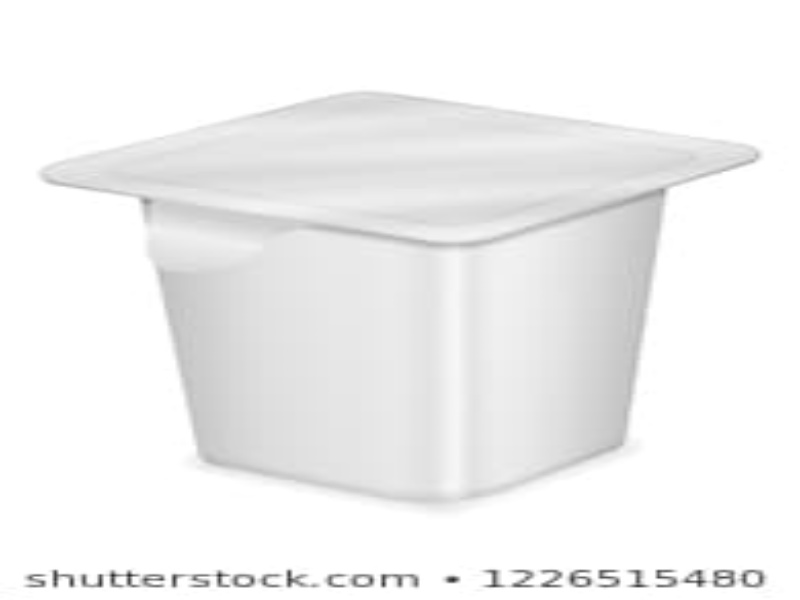yogurt-cup: (36, 88, 766, 499)
